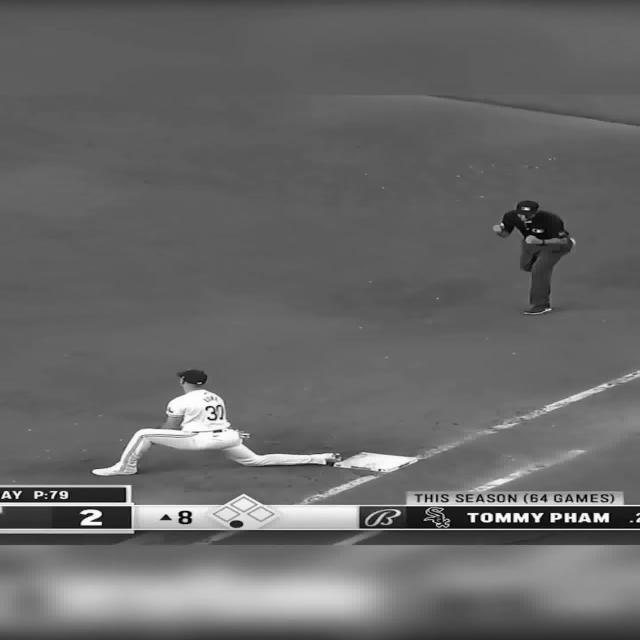base: (346, 454, 422, 474)
shoe: (91, 462, 137, 477), (522, 306, 552, 314), (323, 452, 341, 464)
